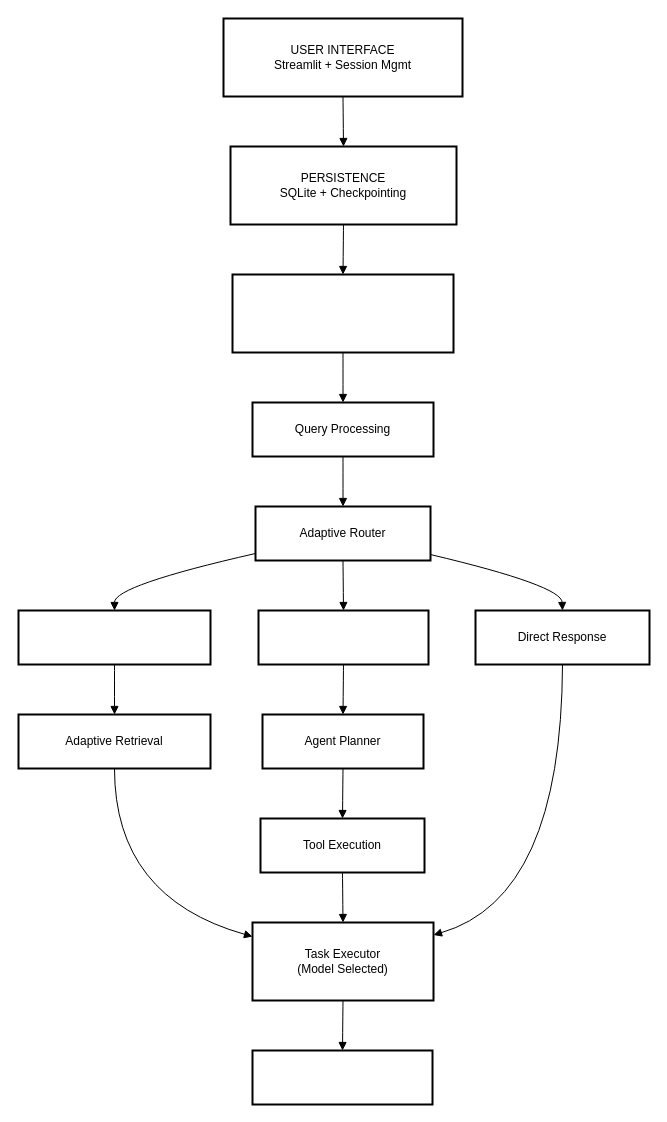
Image size: 667x1122. Some labels were removed from this diagram. The shapes that lost their labels are listed below. From the top down, each one's centre as x and y in pixels, then its label:
At (342,313): "CORE ORCHESTRATION (LangGraph)".
At (114,637): "Retrieval Required".
At (343,637): "Agent Required".
At (342,1077): "Response Output".
